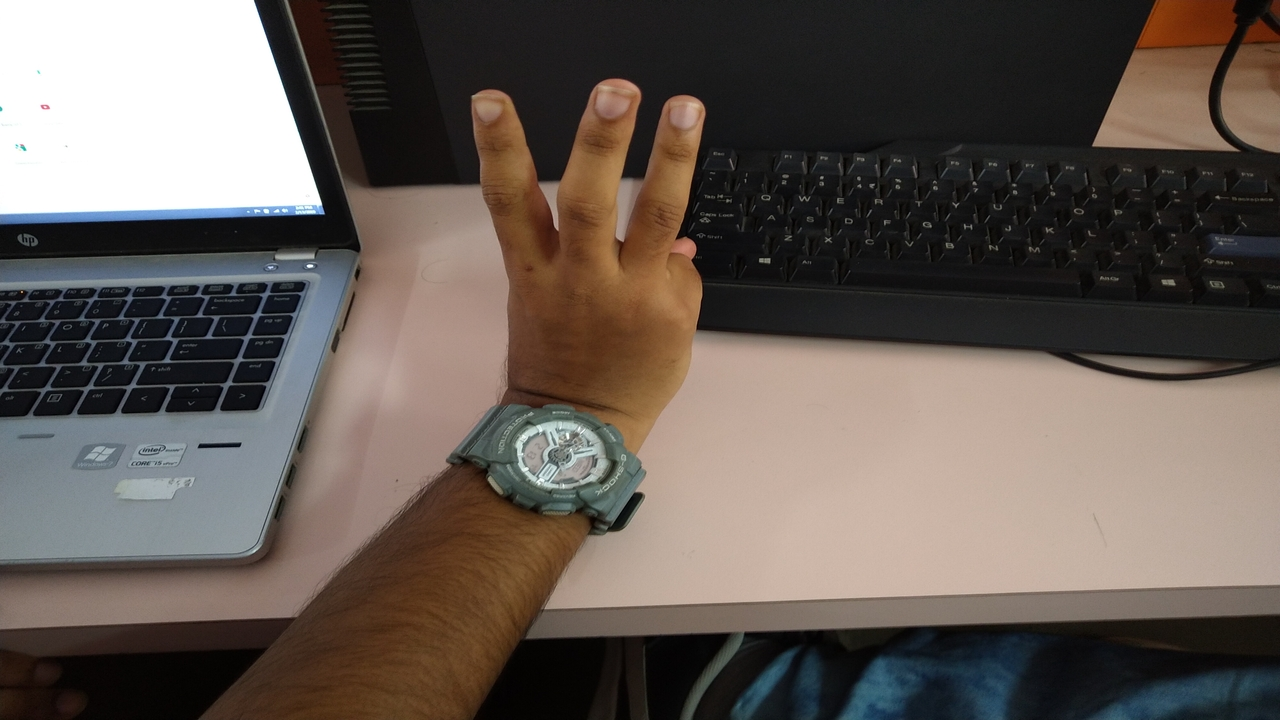fingertip: (580, 76, 642, 124), (652, 90, 708, 136), (468, 86, 522, 132)
